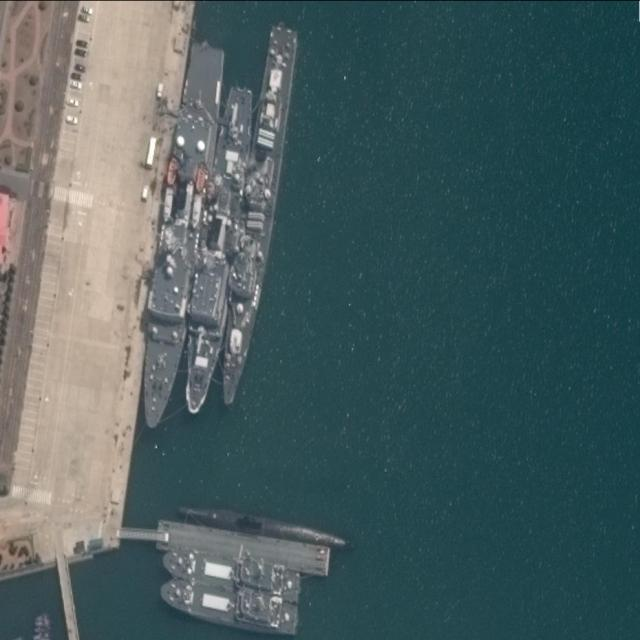Destroyer: (214, 23, 301, 405)
Landing: (158, 540, 304, 605), (155, 582, 301, 634)
Other Warship: (127, 41, 230, 432), (173, 83, 262, 418)
Submarine: (171, 501, 357, 551)
